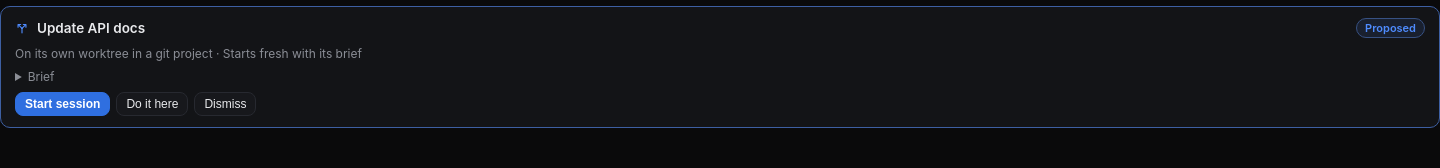
Test: ProposalCard › shows a failed start inline and keeps the choices
Click the button "Start session".
click(63, 104)  # box [15,92,110,116]
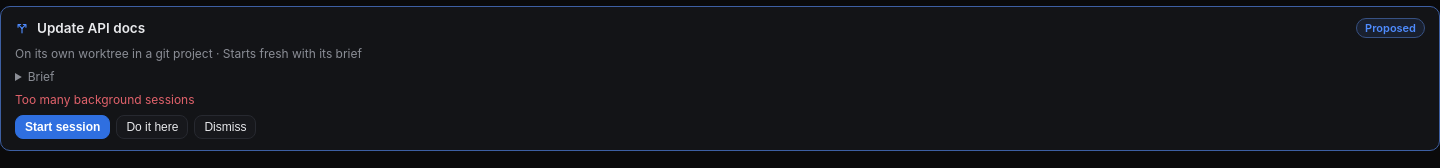
Expected: the button "Start session" is enabled, [15,115,110,139]
Expected: the message reads "Too many background sessions", [15,92,194,107]
